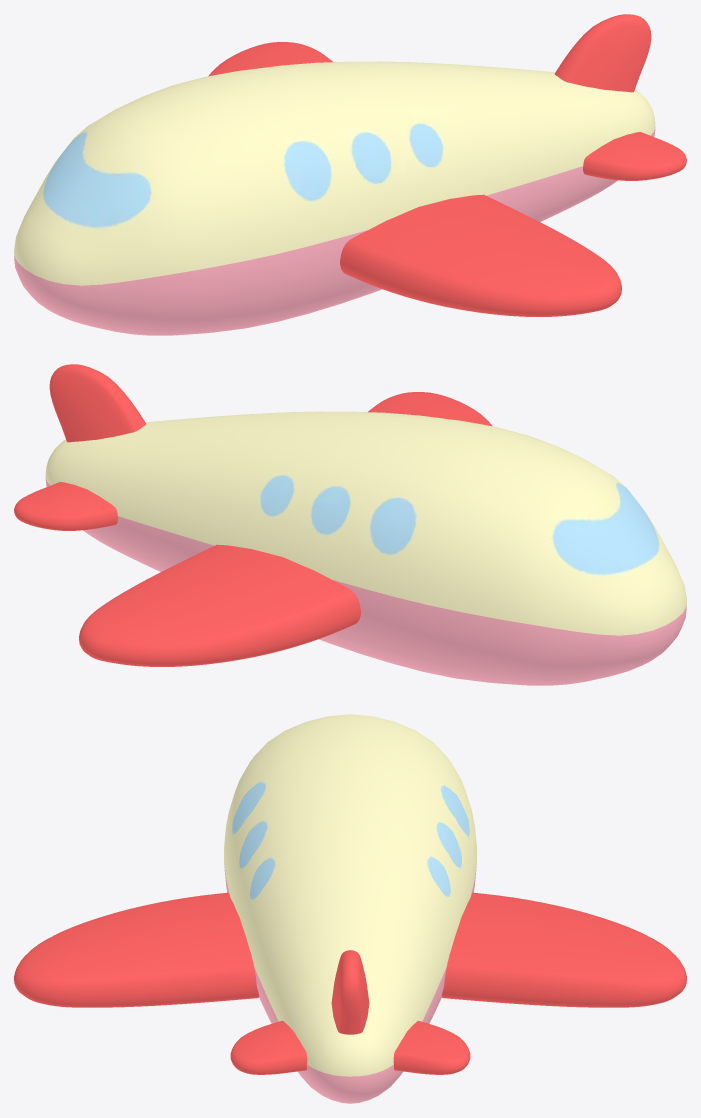
File: airplane.glb
3 views of the same model, one above another, from view 1: azimuth 30°, elevation 25°; view 2: azimuth 150°, elevation 25°; view 3: azimuth 270°, elevation 25° (orthographic).
Parts seen in each view (by area): view 1: pCube1, pCube6, pCube2, pCube4, pCube5; view 2: pCube1, pCube5, pCube2, pCube3, pCube6; view 3: pCube1, pCube5, pCube6, pCube3, pCube4, pCube2.
Boxes of the visible parts, x1=… form: pCube1: x1=14, y1=61, x2=655, y2=335; pCube6: x1=340, y1=194, x2=621, y2=316; pCube2: x1=554, y1=14, x2=651, y2=92; pCube4: x1=583, y1=132, x2=686, y2=180; pCube5: x1=208, y1=42, x2=332, y2=76; pCube1: x1=45, y1=411, x2=686, y2=685; pCube5: x1=79, y1=544, x2=360, y2=666; pCube2: x1=49, y1=364, x2=146, y2=442; pCube3: x1=14, y1=482, x2=117, y2=530; pCube6: x1=368, y1=392, x2=492, y2=426; pCube1: x1=224, y1=714, x2=476, y2=1103; pCube5: x1=441, y1=892, x2=686, y2=1007; pCube6: x1=14, y1=892, x2=259, y2=1007; pCube3: x1=393, y1=1020, x2=470, y2=1074; pCube4: x1=230, y1=1020, x2=307, y2=1074; pCube2: x1=331, y1=950, x2=369, y2=1034.
Size of the model in its own units: 0.1096 by 0.0379 by 0.1042.
1 material, 1 textured.
